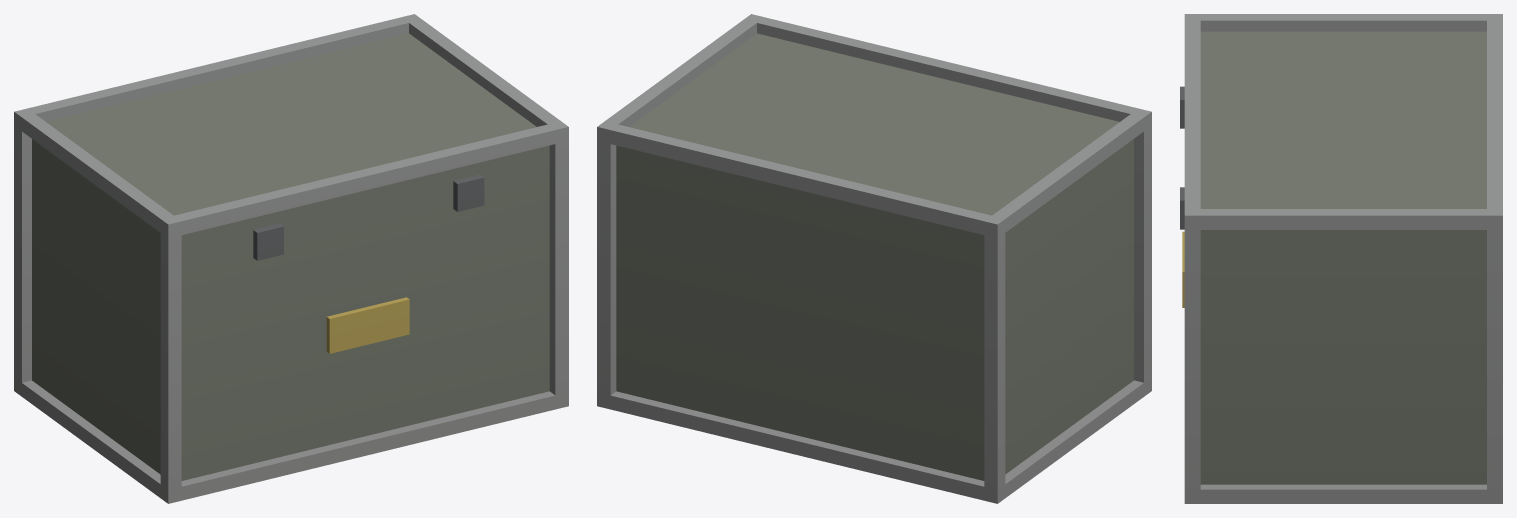
File: crate_steel.glb
3 renders of one model, left to right at view 1: azimuth 30°, elevation 25°; view 2: azimuth 150°, elevation 25°; view 3: azimuth 270°, elevation 25°, orthographic. The views are drawn at different scales.
Parts seen in each view (by area): view 1: crate_steel; view 2: crate_steel; view 3: crate_steel.
Part boxes in pixels (x1=…): crate_steel: x1=14, y1=14, x2=568, y2=503; crate_steel: x1=597, y1=14, x2=1151, y2=503; crate_steel: x1=1180, y1=14, x2=1502, y2=503.
Size of the model in its own units: 1.2 by 0.8 by 0.812.
